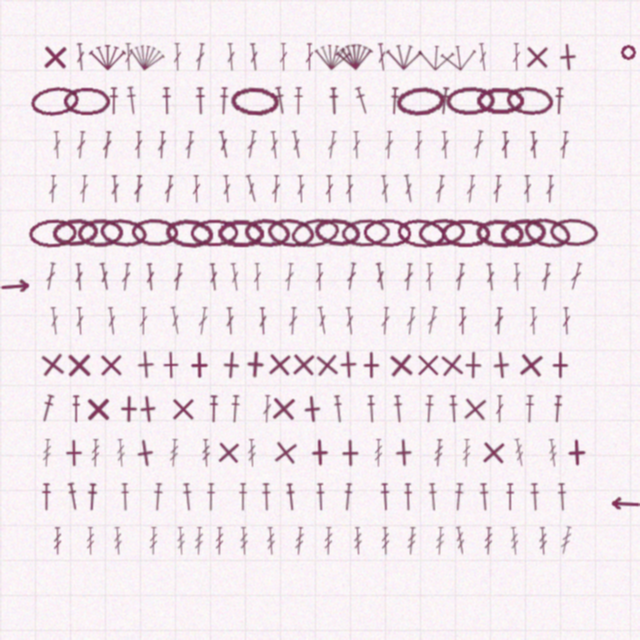chain: (521, 214, 573, 251), (289, 215, 341, 251), (29, 84, 80, 118), (98, 216, 149, 250), (266, 216, 315, 249), (313, 216, 362, 249), (395, 85, 445, 117), (164, 217, 214, 249), (396, 217, 446, 249), (505, 85, 555, 116), (417, 217, 467, 248), (549, 217, 599, 248), (51, 217, 100, 248), (243, 217, 292, 248), (499, 217, 548, 248), (230, 86, 279, 116), (28, 218, 77, 248), (341, 218, 390, 248), (475, 218, 524, 248), (445, 86, 495, 115), (363, 218, 412, 247), (190, 219, 239, 247), (441, 219, 490, 247), (77, 218, 124, 247), (131, 218, 178, 247), (63, 87, 111, 115), (476, 87, 524, 115), (217, 219, 264, 247)
double: (568, 262, 584, 291), (244, 174, 259, 203), (217, 130, 231, 159), (425, 306, 439, 335), (245, 130, 258, 159), (290, 130, 303, 159), (472, 130, 485, 159), (402, 174, 415, 203), (44, 262, 57, 291), (98, 262, 111, 291), (345, 262, 358, 291), (374, 262, 387, 291), (169, 306, 182, 335), (316, 306, 329, 335), (326, 130, 338, 160), (194, 43, 206, 71), (248, 43, 260, 71), (376, 43, 388, 71), (477, 43, 489, 71), (75, 131, 87, 159), (101, 131, 113, 159), (163, 175, 175, 203), (379, 175, 391, 203), (434, 175, 446, 203), (465, 175, 477, 203), (120, 263, 132, 291), (172, 263, 184, 291), (229, 263, 241, 291), (454, 263, 466, 291), (540, 263, 552, 291), (106, 307, 118, 335), (197, 307, 209, 335), (344, 307, 356, 335), (405, 307, 417, 335), (75, 43, 86, 71), (184, 131, 195, 159), (269, 131, 280, 159), (559, 131, 570, 159), (133, 175, 144, 203), (492, 175, 503, 203), (145, 263, 156, 291), (208, 263, 219, 291), (284, 263, 295, 291), (403, 263, 414, 291), (485, 263, 496, 291), (49, 307, 60, 335), (380, 307, 391, 335), (226, 43, 236, 71), (52, 131, 62, 159), (157, 131, 167, 159), (384, 131, 394, 159), (440, 131, 450, 159), (529, 131, 539, 159), (48, 175, 58, 203), (79, 175, 89, 203), (110, 175, 120, 203), (222, 175, 232, 203), (271, 175, 281, 203), (296, 175, 306, 203), (545, 175, 555, 203), (74, 263, 84, 291), (512, 263, 522, 291), (75, 307, 85, 335), (225, 307, 235, 335), (258, 307, 268, 335), (288, 307, 298, 335), (494, 307, 504, 335), (262, 395, 272, 423), (124, 43, 133, 71), (173, 43, 182, 71), (279, 43, 288, 71), (305, 43, 314, 71), (512, 43, 521, 71), (134, 131, 143, 159), (352, 131, 361, 159), (414, 131, 423, 159), (501, 131, 510, 159), (192, 175, 201, 203), (325, 175, 334, 203), (345, 175, 354, 203), (523, 175, 532, 203), (253, 263, 262, 291), (315, 263, 324, 291), (425, 263, 434, 291), (139, 307, 148, 335), (458, 307, 467, 335), (529, 307, 538, 335), (562, 307, 571, 335), (495, 395, 504, 423)
fan: (126, 40, 167, 74), (439, 41, 479, 73), (313, 41, 352, 72), (335, 41, 374, 72), (417, 42, 455, 72), (385, 42, 423, 71), (89, 43, 126, 71)
half_double: (353, 86, 371, 115), (39, 394, 56, 423), (273, 86, 288, 115), (125, 86, 139, 115), (66, 482, 80, 511), (438, 87, 451, 115), (332, 395, 345, 423), (392, 395, 405, 423), (181, 483, 194, 511), (452, 483, 465, 511), (478, 483, 491, 511), (218, 87, 230, 115), (328, 87, 340, 115), (553, 87, 565, 115), (229, 395, 241, 423), (423, 395, 435, 423), (86, 483, 98, 511), (152, 483, 164, 511), (285, 483, 297, 511), (342, 483, 354, 511), (379, 483, 391, 511), (427, 483, 439, 511), (529, 483, 541, 511), (556, 483, 568, 511), (108, 87, 119, 115), (161, 87, 172, 115), (195, 87, 206, 115), (293, 87, 304, 115), (389, 87, 400, 115), (208, 395, 219, 423), (366, 395, 377, 423), (448, 395, 459, 423), (524, 395, 535, 423), (552, 395, 563, 423), (41, 483, 52, 511), (261, 483, 272, 511), (315, 483, 326, 511), (71, 395, 81, 423), (120, 483, 130, 511), (206, 483, 216, 511), (238, 483, 248, 511), (403, 483, 413, 511), (505, 483, 515, 511)
noise: (0, 279, 31, 293), (609, 497, 640, 510), (618, 42, 638, 62)
single: (129, 437, 161, 469), (37, 349, 68, 380), (270, 437, 301, 468), (553, 42, 583, 72), (216, 350, 246, 380), (312, 350, 342, 380), (386, 350, 416, 380), (437, 350, 467, 380), (486, 350, 516, 380), (516, 350, 546, 380), (133, 394, 163, 424), (297, 394, 327, 424), (460, 394, 490, 424), (131, 350, 160, 379), (241, 350, 270, 379), (265, 350, 294, 379), (289, 350, 318, 379), (334, 350, 363, 379), (269, 394, 298, 423), (214, 438, 243, 467), (305, 438, 334, 467), (389, 438, 418, 467), (479, 438, 508, 467), (562, 438, 591, 467), (41, 43, 69, 71), (523, 43, 551, 71), (65, 351, 93, 379), (97, 351, 125, 379), (157, 351, 185, 379), (185, 351, 213, 379), (357, 351, 385, 379), (414, 351, 442, 379), (459, 351, 487, 379), (546, 351, 574, 379), (84, 395, 112, 423), (115, 395, 143, 423), (169, 395, 197, 423), (60, 439, 88, 467), (336, 439, 364, 467)
treble: (559, 526, 573, 555), (513, 438, 526, 467), (454, 526, 467, 555), (547, 439, 559, 467), (433, 439, 444, 467), (294, 527, 305, 555), (406, 527, 417, 555), (509, 527, 520, 555), (42, 439, 52, 467), (116, 439, 126, 467), (169, 439, 179, 467), (201, 439, 211, 467), (247, 439, 257, 467), (113, 527, 123, 555), (176, 527, 186, 555), (194, 527, 204, 555), (239, 527, 249, 555), (266, 527, 276, 555), (353, 527, 363, 555), (435, 527, 445, 555), (538, 527, 548, 555), (91, 439, 100, 467), (374, 439, 383, 467), (462, 439, 471, 467), (53, 527, 62, 555), (86, 527, 95, 555), (149, 527, 158, 555), (215, 527, 224, 555), (324, 527, 333, 555), (381, 527, 390, 555), (484, 527, 493, 555)
